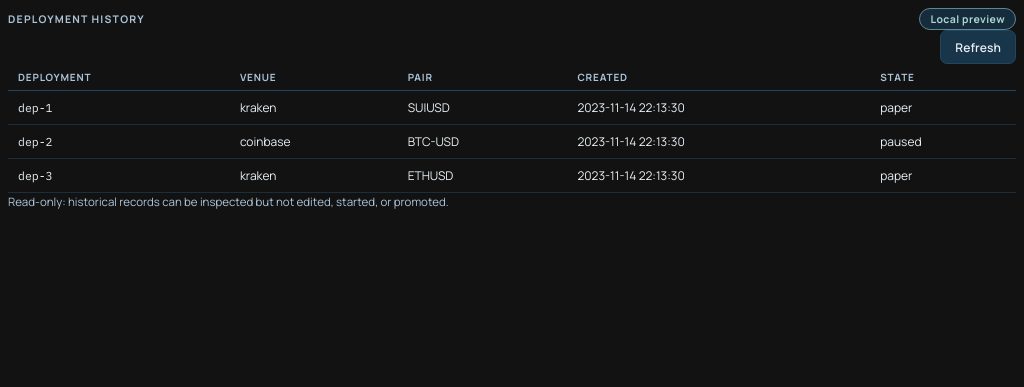
Test case: DeploymentHistory keyboard activation › keeps the pointer toggle working alongside keyboard activation
The width and height of the screenshot is (1024, 387).
Click the row with test id "ops-history-row-dep-2". click: (512, 142)
box: top-left (8, 124), bottom-right (1016, 158)
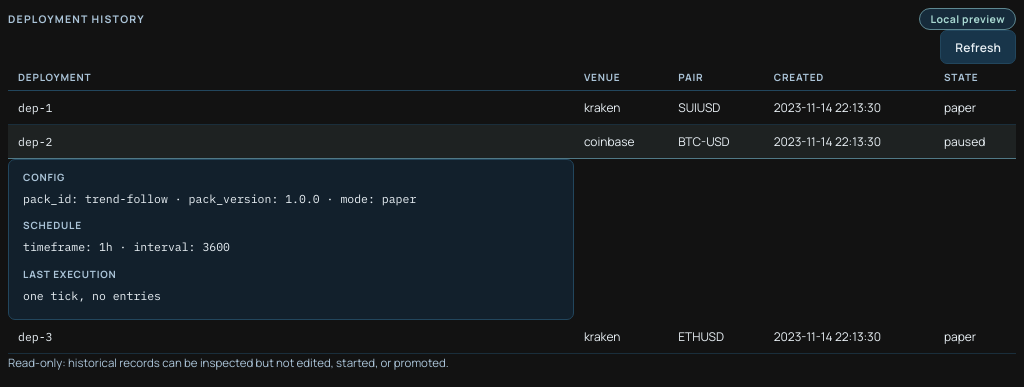
Expected: the element with test id "ops-history-detail-dep-2" is shown, top-left (8, 159), bottom-right (574, 320)
Click the row with test id "ops-history-row-dep-2". click: (512, 142)
box: top-left (8, 124), bottom-right (1016, 158)
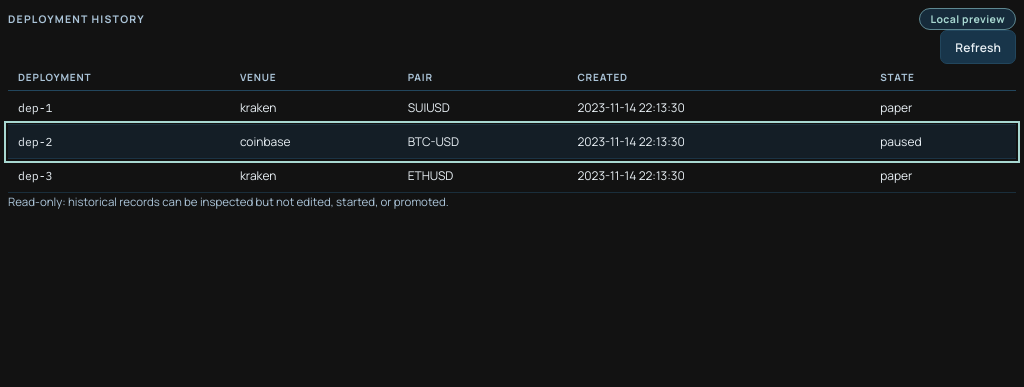
Expected: the element with test id "ops-history-detail-dep-2" is gone
Press Enter in the row with test id "ops-history-row-dep-2", box top-left (8, 124), bottom-right (1016, 158)
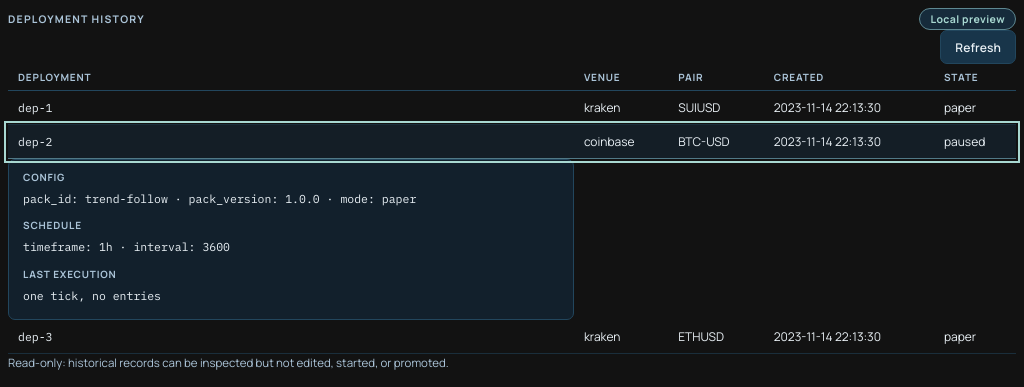
Expected: the element with test id "ops-history-detail-dep-2" is shown, top-left (8, 159), bottom-right (574, 320)
